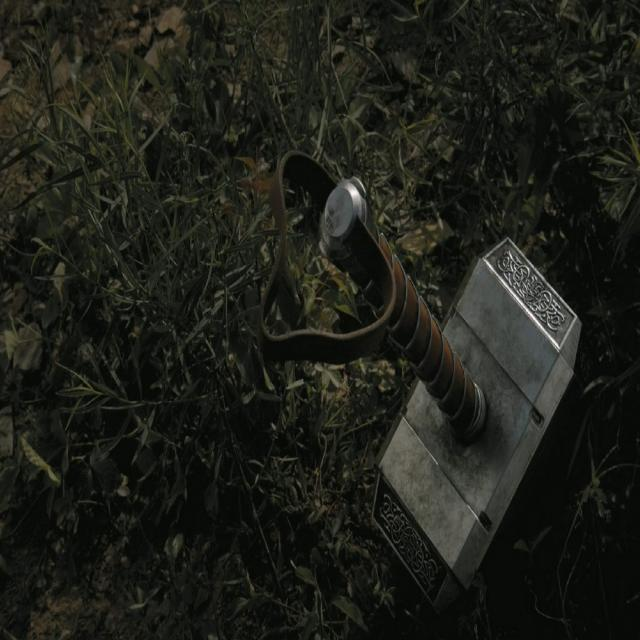hammer: (306, 169, 600, 631)
